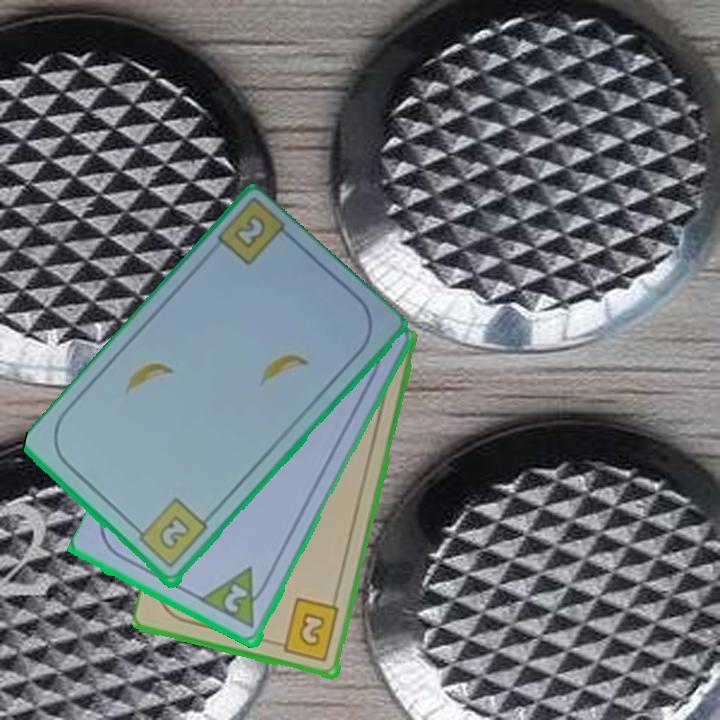2b: (130, 495, 211, 572), (272, 596, 343, 665), (233, 215, 266, 249)
2p: (199, 564, 274, 632)
